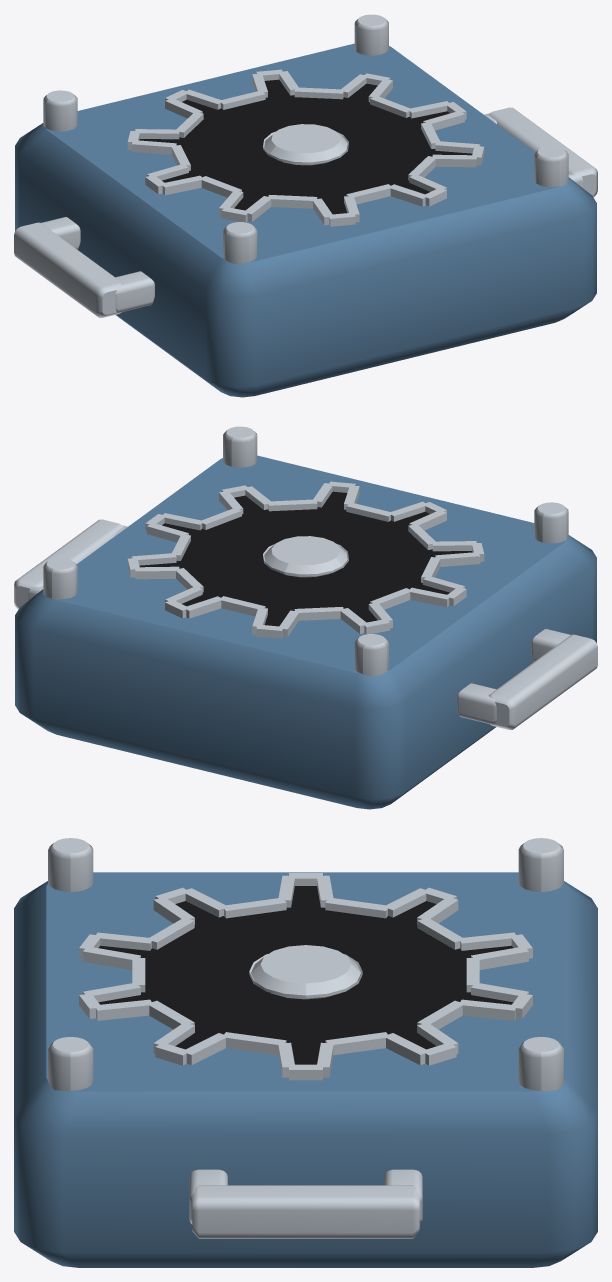
Rendered from objet_moule_engrenage.glb.
The picture shows the model from 3 angles, top to bottom: view 1: azimuth 30°, elevation 25°; view 2: azimuth 150°, elevation 25°; view 3: azimuth 270°, elevation 25°; orthographic projection. The views are drawn at different scales.
Visible parts, largest first — view 1: moule_moule_corps.006, moule_moule_acier.006, moule_moule_creux.006; view 2: moule_moule_corps.006, moule_moule_acier.006, moule_moule_creux.006; view 3: moule_moule_corps.006, moule_moule_acier.006, moule_moule_creux.006.
Part boxes in pixels (x1=…): moule_moule_corps.006: x1=15, y1=43, x2=596, y2=397; moule_moule_acier.006: x1=14, y1=14, x2=597, y2=317; moule_moule_creux.006: x1=139, y1=79, x2=472, y2=214; moule_moule_corps.006: x1=15, y1=455, x2=596, y2=809; moule_moule_acier.006: x1=14, y1=426, x2=597, y2=729; moule_moule_creux.006: x1=139, y1=491, x2=472, y2=626; moule_moule_corps.006: x1=14, y1=872, x2=597, y2=1267; moule_moule_acier.006: x1=48, y1=838, x2=563, y2=1238; moule_moule_creux.006: x1=98, y1=886, x2=513, y2=1064.
Bounding box in the file's own units: 0.234 × 0.0725 × 0.18.
